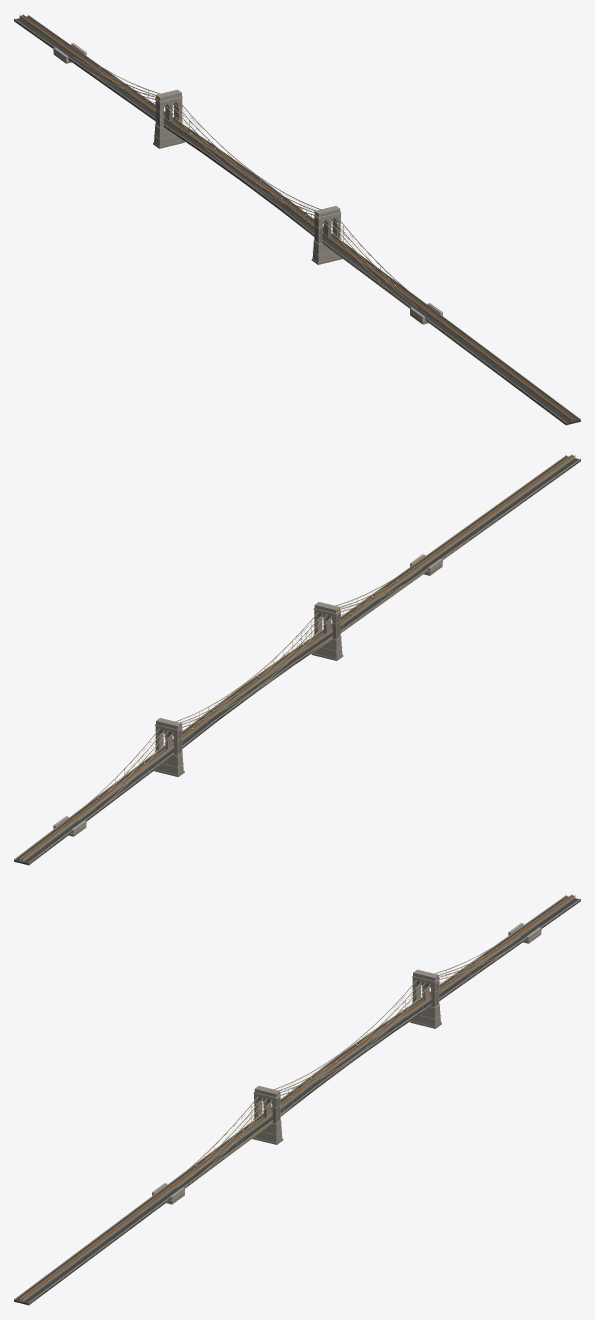
3 views of the same model, one above another, from view 1: azimuth 30°, elevation 25°; view 2: azimuth 150°, elevation 25°; view 3: azimuth 330°, elevation 25° (orthographic).
Parts seen in each view (by area): view 1: brooklyn-bridge-lod1-body; view 2: brooklyn-bridge-lod1-body; view 3: brooklyn-bridge-lod1-body.
Part boxes in pixels (bbox=[...]): brooklyn-bridge-lod1-body: bbox=[14, 14, 580, 425]; brooklyn-bridge-lod1-body: bbox=[14, 454, 580, 865]; brooklyn-bridge-lod1-body: bbox=[14, 894, 580, 1305].
Size of the model in its own units: 45.5 by 84 by 1692.
